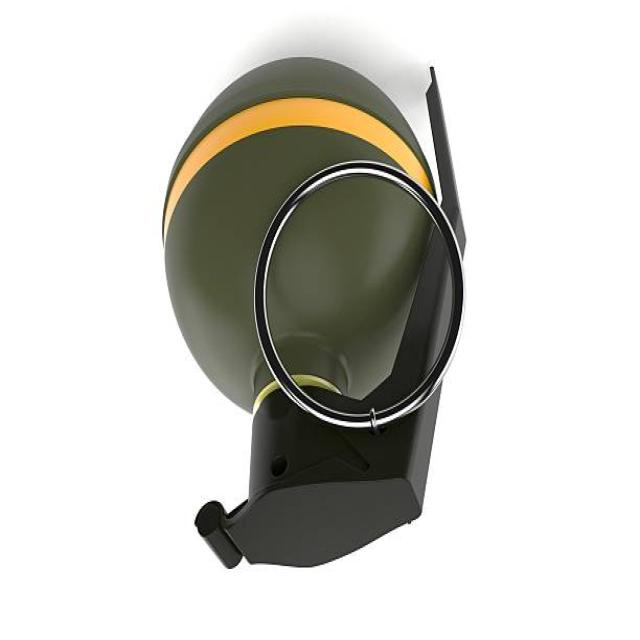grenade: (156, 57, 471, 573)
